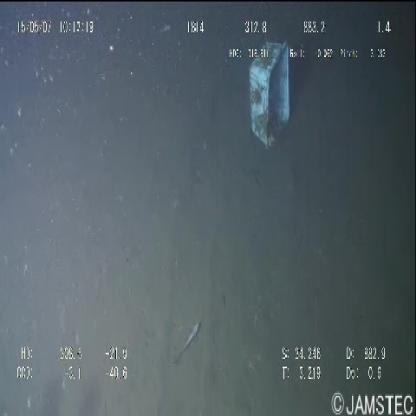Rác: (244, 31, 296, 159)
